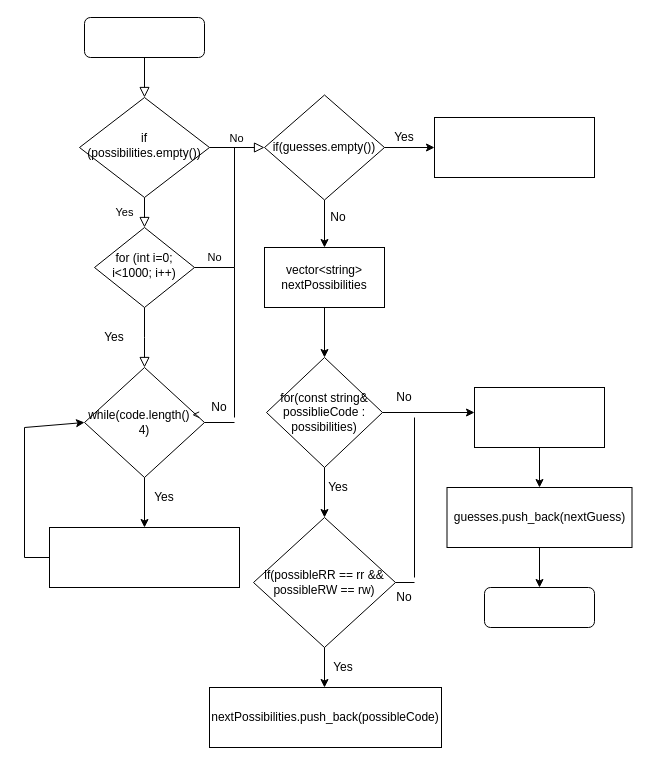
This 650x765 diagram has some shape labels left out. The centre of each missing label's shape, as x and y in pixels:
code='0'+code; possibilities.push_baclk(code): point (144, 557)
guesses.push_back("0000"): point (514, 147)
return nextGuess: point (539, 607)
string AI: point (144, 37)
string nextGuess = possibilities.front(): point (539, 417)
